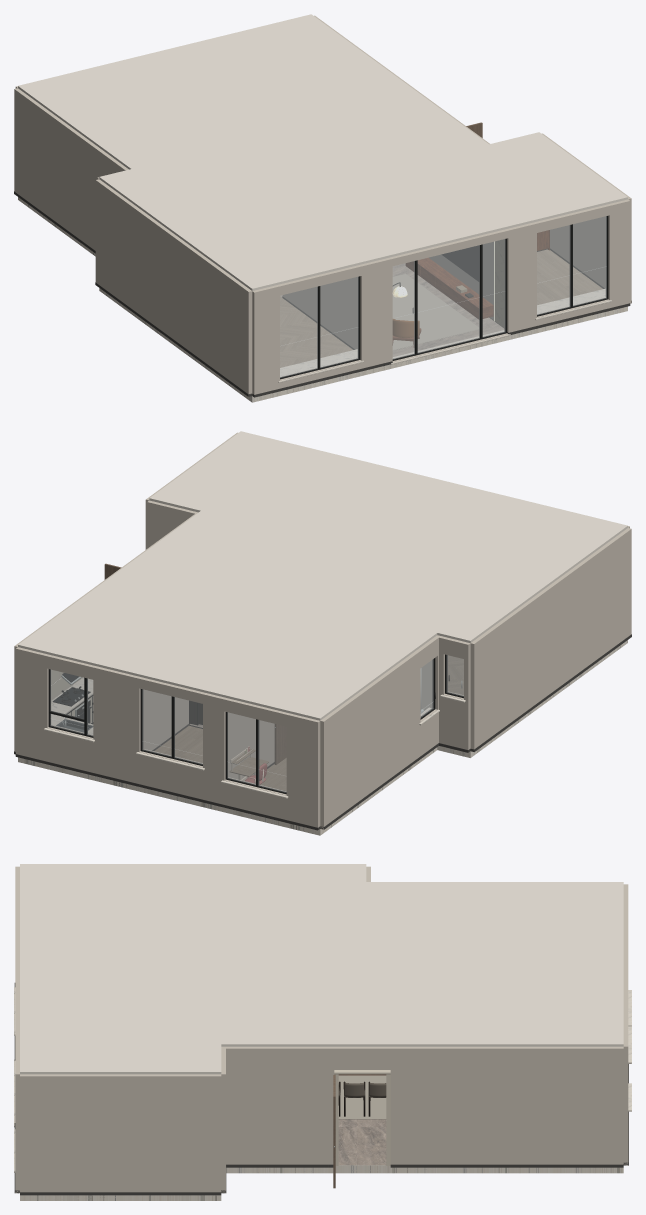
Rendered from apartment-v19.glb.
The picture shows the model from 3 angles, top to bottom: view 1: azimuth 30°, elevation 25°; view 2: azimuth 150°, elevation 25°; view 3: azimuth 270°, elevation 25°; orthographic projection. The views are drawn at different scales.
Visible parts, largest first — view 1: Ceiling_main, wall_west_south_0_0_upper, wall_west_south_0_0_lower, wall_west_north_0_0_upper, wall_west_north_0_0_lower, Living_south_glass_upper.001, Furniture_living_rug, Apartment_floor_slab, Living_south_glass_lower.001, floor_master, wall_master_living_4_0_lower, wall_south_2_0_upper (+35 smaller); view 2: Ceiling_main, wall_west_south_0_0_upper, wall_west_south_0_0_lower, wall_west_north_0_0_upper, wall_west_north_0_0_lower, wall_north_4_0_upper, Apartment_floor_slab, wall_north_0_0_upper, wall_north_6_0_upper, wall_north_3_0_lower, wall_north_4_0_lower, Kitchen_north_glass_upper.001 (+25 smaller); view 3: Ceiling_main, wall_east_north_0_0_upper, wall_east_south_0_0_upper, wall_east_north_0_0_lower, wall_east_south_0_0_lower, wall_east_elevator_0_0_upper, wall_east_elevator_0_0_lower, Apartment_floor_slab, Continuous_public_stone, Furniture_dining_rug, wall_east_north_1_1_upper, skirting_east_north_0 (+3 smaller).
Boxes of the visible parts, box(x1,y1,x2,y2) form: Ceiling_main: box(18, 14, 627, 290); wall_west_south_0_0_upper: box(95, 179, 252, 353); wall_west_south_0_0_lower: box(95, 242, 252, 393); wall_west_north_0_0_upper: box(14, 88, 111, 209); wall_west_north_0_0_lower: box(14, 151, 95, 250); Living_south_glass_upper.001: box(417, 245, 479, 312); Furniture_living_rug: box(392, 273, 479, 350); Apartment_floor_slab: box(18, 197, 627, 402); Living_south_glass_lower.001: box(417, 297, 479, 353); floor_master: box(280, 296, 352, 367); wall_master_living_4_0_lower: box(282, 285, 357, 349); wall_south_2_0_upper: box(357, 257, 392, 327); Ceiling_main: box(18, 431, 627, 720); wall_west_south_0_0_upper: box(470, 528, 631, 707); wall_west_south_0_0_lower: box(470, 593, 631, 749); wall_west_north_0_0_upper: box(320, 650, 420, 785); wall_west_north_0_0_lower: box(320, 715, 420, 829); wall_north_4_0_upper: box(93, 666, 143, 742); Apartment_floor_slab: box(18, 640, 627, 835); wall_north_0_0_upper: box(286, 713, 320, 785); wall_north_6_0_upper: box(16, 647, 51, 719); wall_north_3_0_lower: box(139, 749, 202, 799); wall_north_4_0_lower: box(93, 731, 143, 783); Kitchen_north_glass_upper.001: box(50, 669, 84, 726); Ceiling_main: box(20, 864, 623, 1074); wall_east_north_0_0_upper: box(390, 1046, 623, 1118); wall_east_south_0_0_upper: box(20, 1074, 221, 1146); wall_east_north_0_0_lower: box(390, 1118, 623, 1164); wall_east_south_0_0_lower: box(20, 1146, 221, 1192); wall_east_elevator_0_0_upper: box(221, 1046, 328, 1118); wall_east_elevator_0_0_lower: box(226, 1118, 328, 1164); Apartment_floor_slab: box(20, 1165, 623, 1200); Continuous_public_stone: box(338, 1119, 386, 1165); Furniture_dining_rug: box(338, 1075, 386, 1119); wall_east_north_1_1_upper: box(334, 1046, 390, 1069); skirting_east_north_0: box(390, 1164, 623, 1167).
Size of the model in its own units: 10.72 by 3.04 by 13.2.
Materials: 57 (17 with a texture image).
